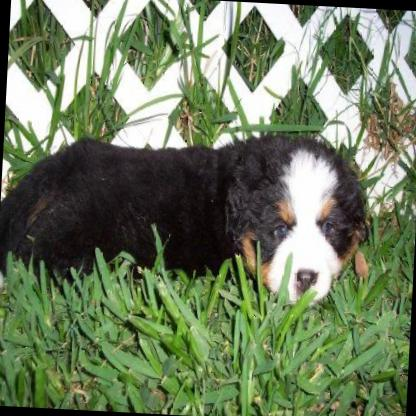Bernese_mountain_dog: (0, 115, 375, 313)
